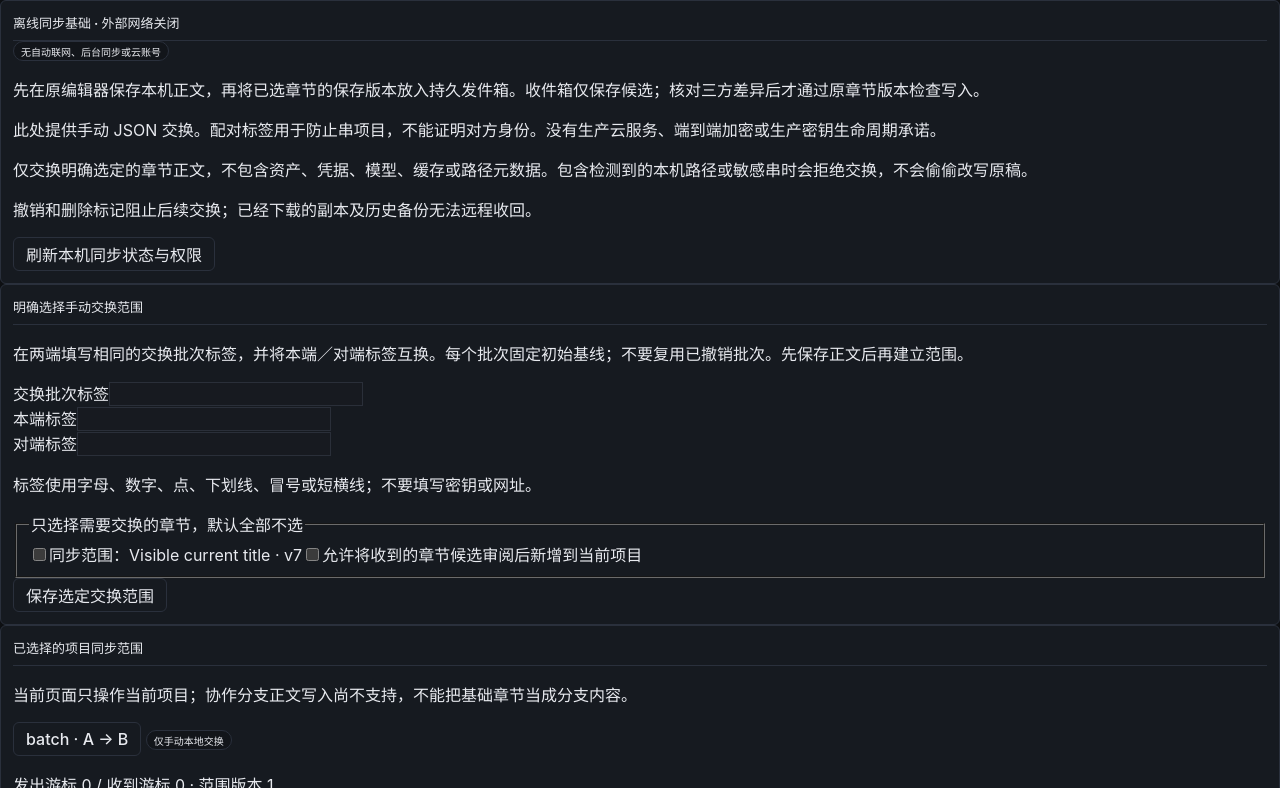
Test case: does not install a response for another record id
Click the button "batch · A → B" at {"x": 77, "y": 739}, box [13,722,141,756]
(page scrolled)
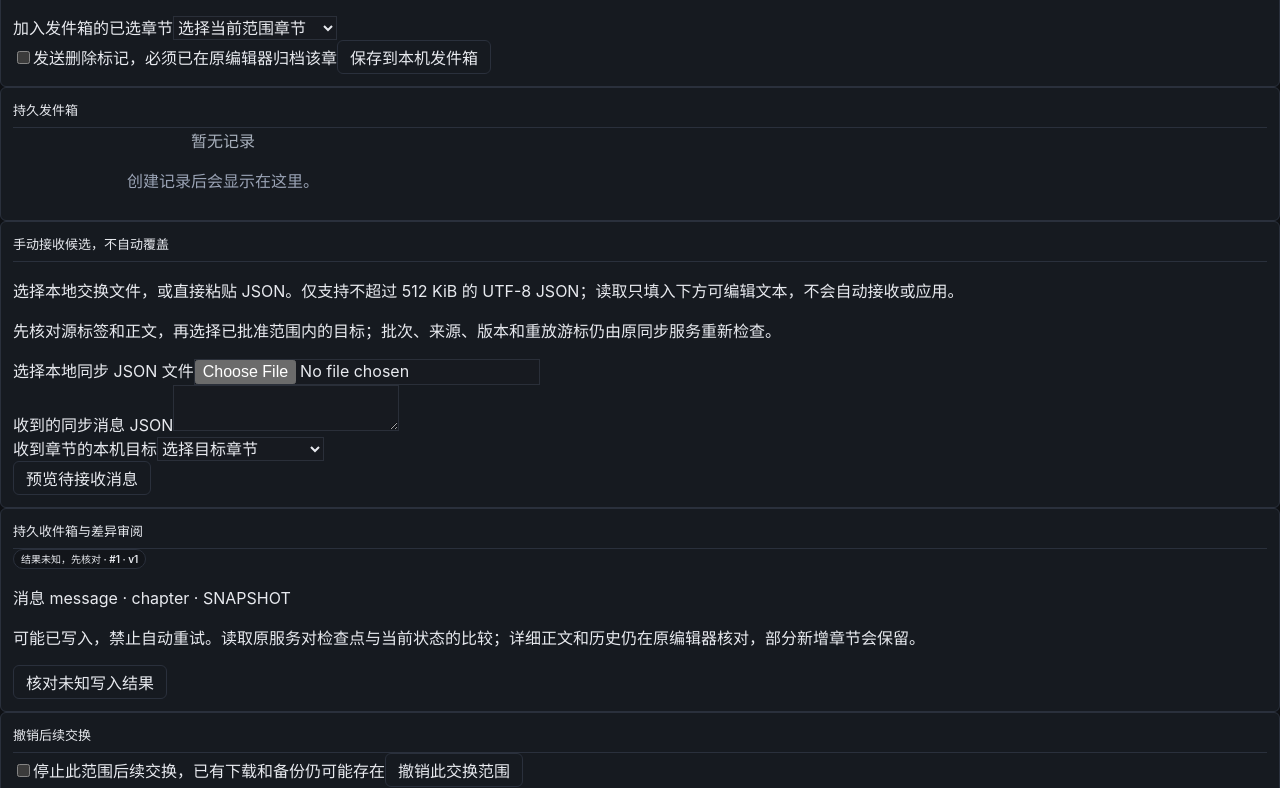
Click the button "核对未知写入结果" at {"x": 90, "y": 682}, box [13,665,167,699]
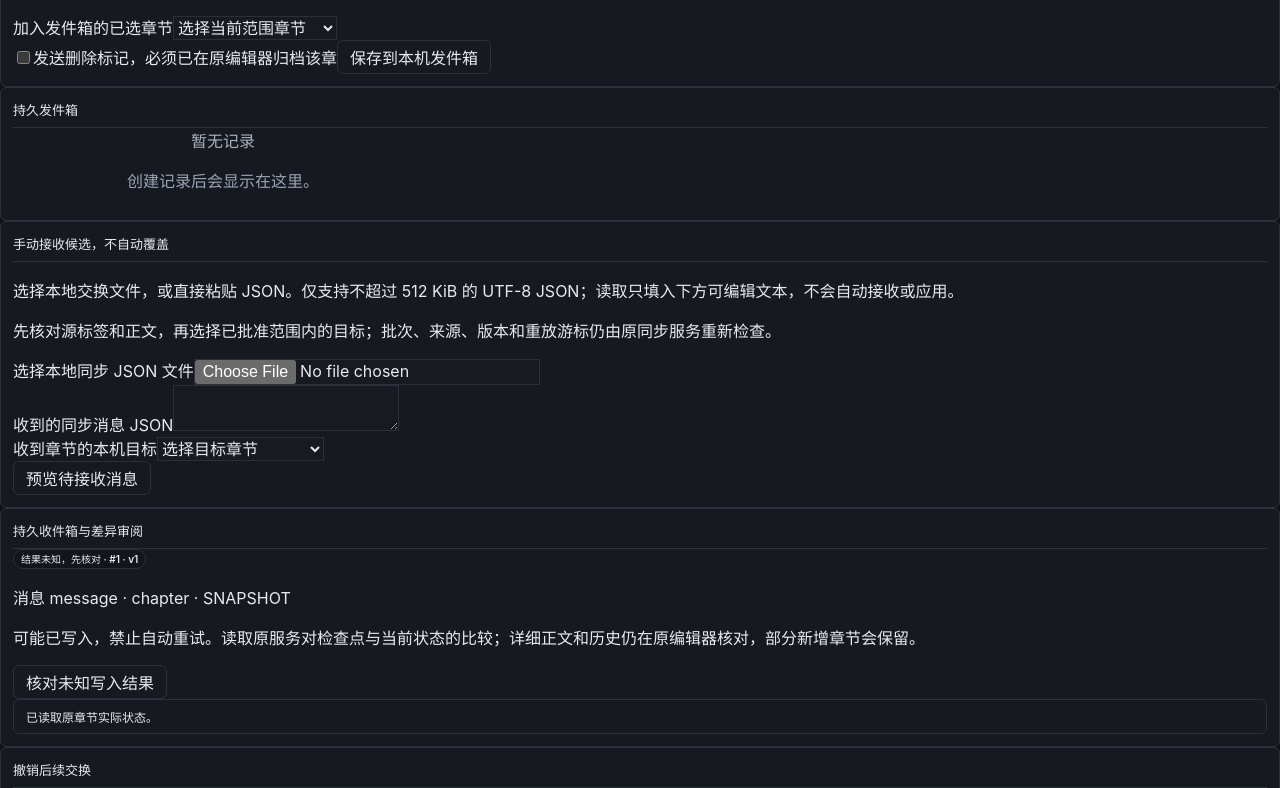
Result: the text "已读取原章节实际状态。" is shown at [13,699,1267,734]
